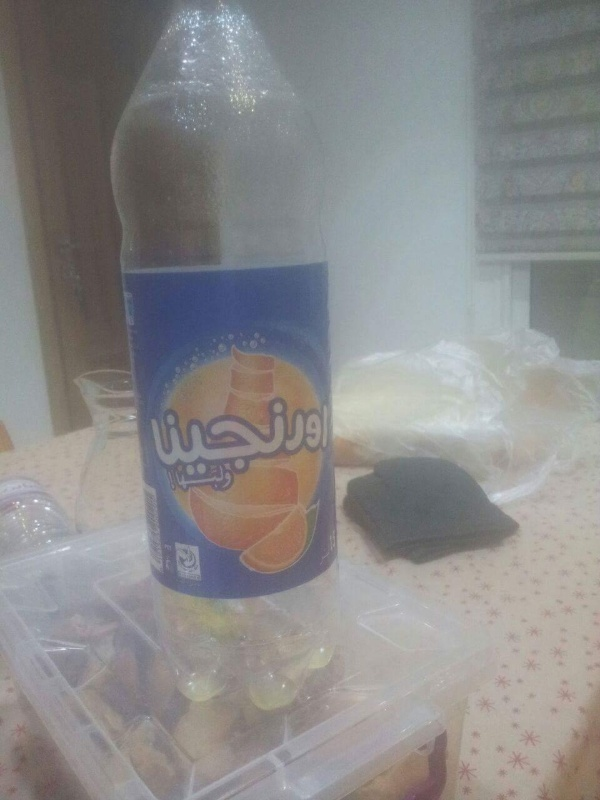text: (161, 392, 176, 479), (177, 392, 192, 479), (193, 392, 208, 479), (209, 392, 224, 479), (225, 392, 240, 479), (241, 392, 256, 479), (257, 392, 272, 479), (273, 392, 288, 479), (289, 392, 304, 479), (305, 392, 320, 479), (147, 392, 160, 479), (321, 392, 330, 479), (177, 464, 192, 497), (193, 464, 208, 497), (209, 464, 224, 497), (321, 539, 333, 570), (33, 475, 49, 498), (17, 475, 32, 498), (166, 464, 176, 497), (2, 475, 16, 498), (225, 464, 234, 497), (177, 561, 192, 576), (329, 528, 336, 559), (314, 539, 320, 570), (164, 542, 176, 553), (178, 571, 192, 580), (193, 561, 201, 576), (193, 571, 202, 580), (337, 528, 338, 559)
